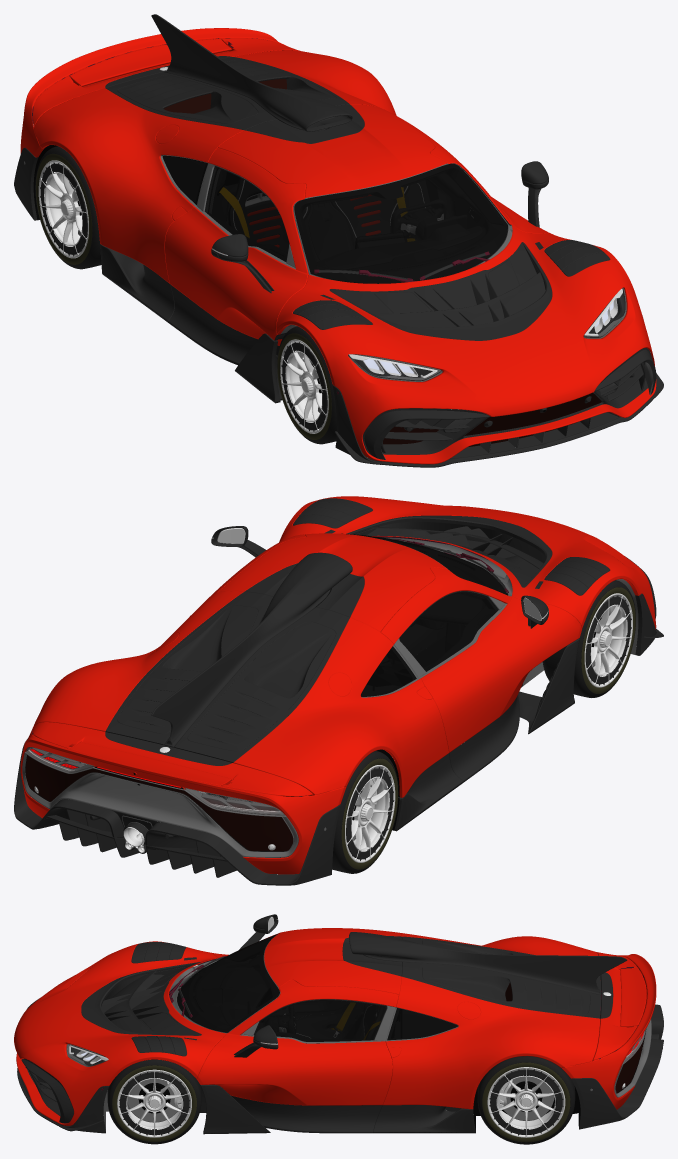
The model's file is mercedes_project_one_2k_comp.glb.
3 views of the same model, one above another, from view 1: azimuth 30°, elevation 25°; view 2: azimuth 150°, elevation 25°; view 3: azimuth 270°, elevation 25° (orthographic). The views are drawn at different scales.
Visible parts, largest first — view 1: MERCEDES_PROJECT_ONE.004_Mesh.014, MERCEDES_PROJECT_ONE.006_Mesh.016, MERCEDES_PROJECT_ONE.003_Mesh.007, MERCEDES_PROJECT_ONE.005_Mesh.015, MERCEDES_PROJECT_ONE.022_Mesh.033, MERCEDES_PROJECT_ONE.001_Mesh.004, Object019.001_Mesh.006, doorlf_a.030_Mesh.360, MERCEDES_PROJECT_ONE.007_Mesh.017, MERCEDES_PROJECT_ONE.011_Mesh.022, MERCEDES_PROJECT_ONE.012_Mesh.023; view 2: MERCEDES_PROJECT_ONE.004_Mesh.014, MERCEDES_PROJECT_ONE.006_Mesh.016, MERCEDES_PROJECT_ONE.007_Mesh.017, MERCEDES_PROJECT_ONE.003_Mesh.007, MERCEDES_PROJECT_ONE.001_Mesh.004, Object019.001_Mesh.006, doorlf_a.019_Mesh.349, MERCEDES_PROJECT_ONE.005_Mesh.015, MERCEDES_PROJECT_ONE.022_Mesh.033, MERCEDES_PROJECT_ONE.019_Mesh.030, MERCEDES_PROJECT_ONE.002_Mesh.005; view 3: MERCEDES_PROJECT_ONE.004_Mesh.014, MERCEDES_PROJECT_ONE.006_Mesh.016, MERCEDES_PROJECT_ONE.003_Mesh.007, MERCEDES_PROJECT_ONE.005_Mesh.015, Object019.001_Mesh.006, MERCEDES_PROJECT_ONE.022_Mesh.033, MERCEDES_PROJECT_ONE.001_Mesh.004, MERCEDES_PROJECT_ONE.007_Mesh.017, Object019.024_Mesh.036, doorlf_a.019_Mesh.349, MERCEDES_PROJECT_ONE.013_Mesh.024.
Part boxes in pixels (x1=…): MERCEDES_PROJECT_ONE.004_Mesh.014: x1=20, y1=28, x2=656, y2=464; MERCEDES_PROJECT_ONE.006_Mesh.016: x1=14, y1=14, x2=663, y2=467; MERCEDES_PROJECT_ONE.003_Mesh.007: x1=162, y1=155, x2=507, y2=283; MERCEDES_PROJECT_ONE.005_Mesh.015: x1=163, y1=115, x2=644, y2=454; MERCEDES_PROJECT_ONE.022_Mesh.033: x1=207, y1=168, x2=508, y2=280; MERCEDES_PROJECT_ONE.001_Mesh.004: x1=38, y1=160, x2=328, y2=433; Object019.001_Mesh.006: x1=35, y1=146, x2=336, y2=444; doorlf_a.030_Mesh.360: x1=164, y1=79, x2=601, y2=446; MERCEDES_PROJECT_ONE.007_Mesh.017: x1=24, y1=155, x2=626, y2=381; MERCEDES_PROJECT_ONE.011_Mesh.022: x1=160, y1=67, x2=617, y2=376; MERCEDES_PROJECT_ONE.012_Mesh.023: x1=381, y1=362, x2=653, y2=459; MERCEDES_PROJECT_ONE.004_Mesh.014: x1=20, y1=496, x2=656, y2=874; MERCEDES_PROJECT_ONE.006_Mesh.016: x1=14, y1=498, x2=663, y2=885; MERCEDES_PROJECT_ONE.007_Mesh.017: x1=22, y1=533, x2=638, y2=857; MERCEDES_PROJECT_ONE.003_Mesh.007: x1=341, y1=533, x2=507, y2=696; MERCEDES_PROJECT_ONE.001_Mesh.004: x1=345, y1=593, x2=632, y2=862; Object019.001_Mesh.006: x1=332, y1=580, x2=635, y2=873; doorlf_a.019_Mesh.349: x1=25, y1=755, x2=293, y2=851; MERCEDES_PROJECT_ONE.005_Mesh.015: x1=97, y1=529, x2=543, y2=823; MERCEDES_PROJECT_ONE.022_Mesh.033: x1=400, y1=543, x2=508, y2=671; MERCEDES_PROJECT_ONE.019_Mesh.030: x1=217, y1=528, x2=541, y2=620; MERCEDES_PROJECT_ONE.002_Mesh.005: x1=25, y1=650, x2=411, y2=857; MERCEDES_PROJECT_ONE.004_Mesh.014: x1=14, y1=928, x2=656, y2=1125; MERCEDES_PROJECT_ONE.006_Mesh.016: x1=17, y1=914, x2=663, y2=1135; MERCEDES_PROJECT_ONE.003_Mesh.007: x1=177, y1=934, x2=457, y2=1041; MERCEDES_PROJECT_ONE.005_Mesh.015: x1=170, y1=933, x2=646, y2=1111; Object019.001_Mesh.006: x1=107, y1=967, x2=575, y2=1144; MERCEDES_PROJECT_ONE.022_Mesh.033: x1=177, y1=937, x2=384, y2=1043; MERCEDES_PROJECT_ONE.001_Mesh.004: x1=117, y1=1067, x2=565, y2=1137; MERCEDES_PROJECT_ONE.007_Mesh.017: x1=66, y1=936, x2=651, y2=1130; Object019.024_Mesh.036: x1=127, y1=1076, x2=554, y2=1122; doorlf_a.019_Mesh.349: x1=615, y1=1038, x2=644, y2=1092; MERCEDES_PROJECT_ONE.013_Mesh.024: x1=473, y1=1086, x2=580, y2=1130.
Size of the model in its own units: 2.1 by 1.19 by 4.58.
